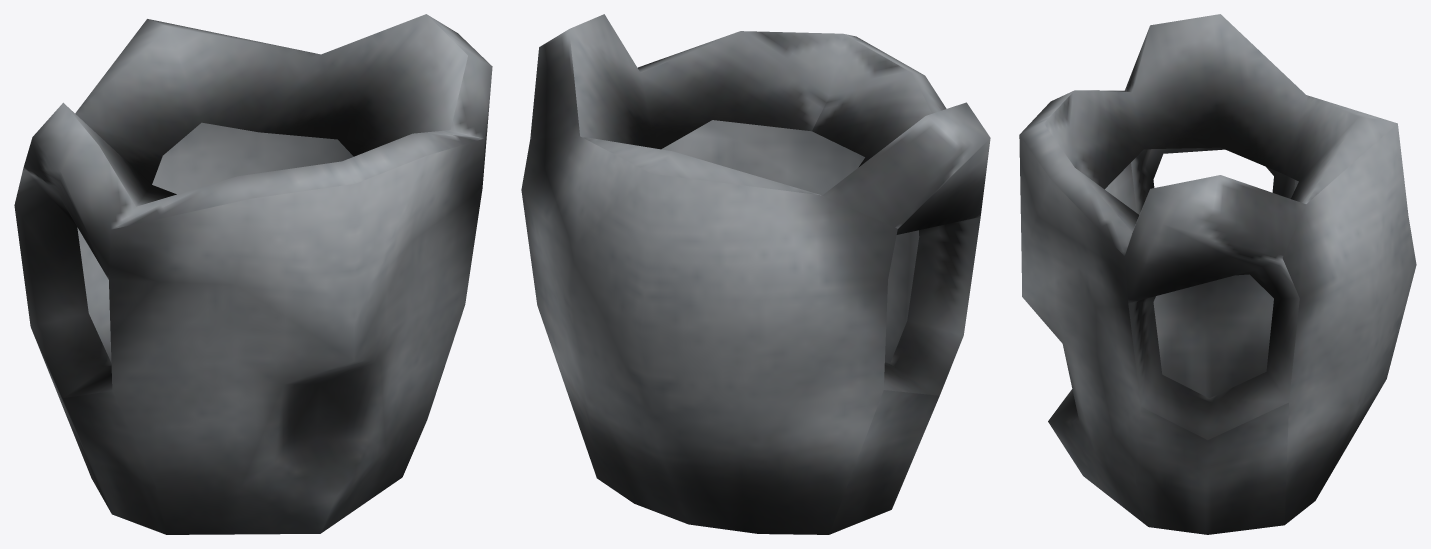
File: grave_marine_chest.glb
The picture shows the model from 3 angles, left to right: view 1: azimuth 30°, elevation 25°; view 2: azimuth 150°, elevation 25°; view 3: azimuth 270°, elevation 25°; orthographic projection. The views are drawn at different scales.
Visible parts, largest first — view 1: scythe_marine_chestplate; view 2: scythe_marine_chestplate; view 3: scythe_marine_chestplate.
Part boxes in pixels (x1,y1,x2,y2): scythe_marine_chestplate: [14, 14, 492, 534]; scythe_marine_chestplate: [521, 14, 990, 534]; scythe_marine_chestplate: [1019, 14, 1416, 534].
Size of the model in its own units: 2.01 by 1.87 by 1.76.
1 material, 1 textured.
